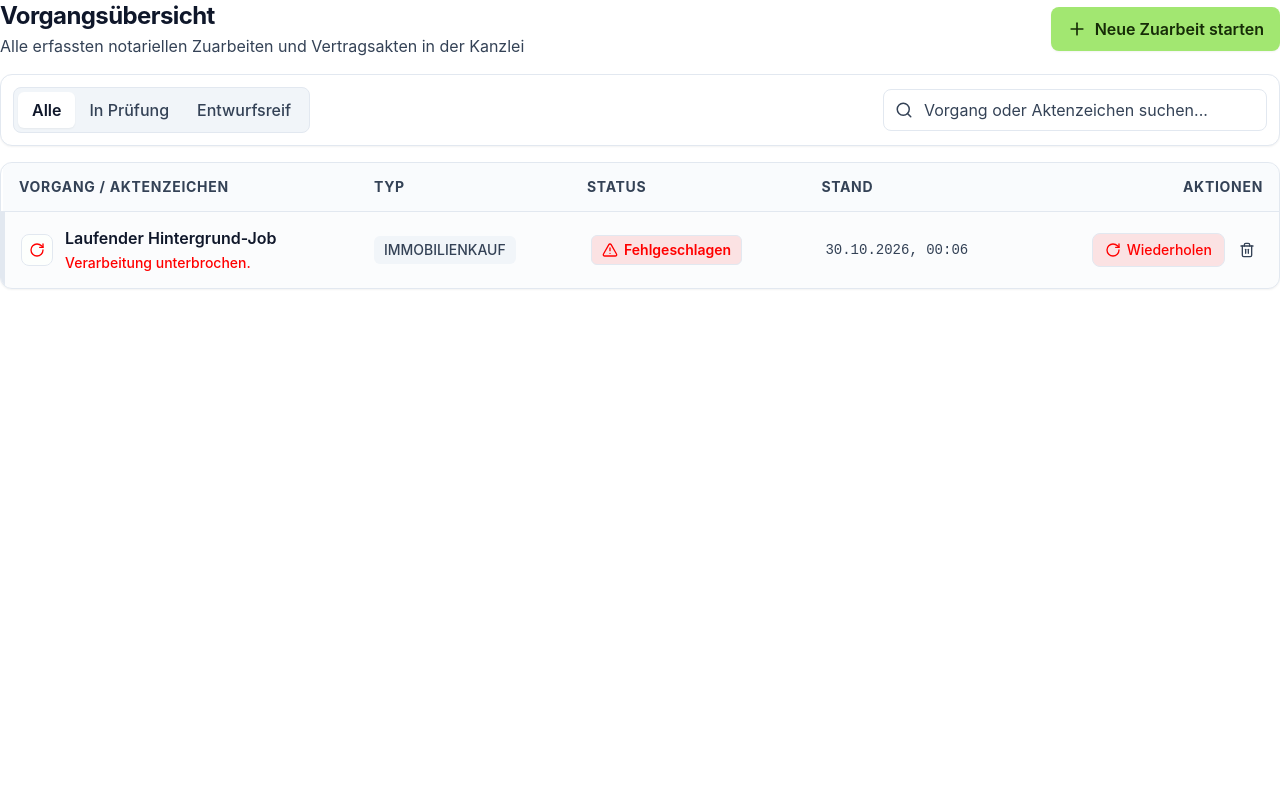
Scenario: DocumentTable Component › Verwerfen eines fehlgeschlagenen Vorgangs › bleibt bei Fehler offen, zeigt eine Meldung und erlaubt einen neuen Versuch
This screenshot has width=1280, height=800.
Click the button named "Fehlgeschlagenen Vorgang verwerfen". click: (1247, 250)
box: [1231,234,1263,266]
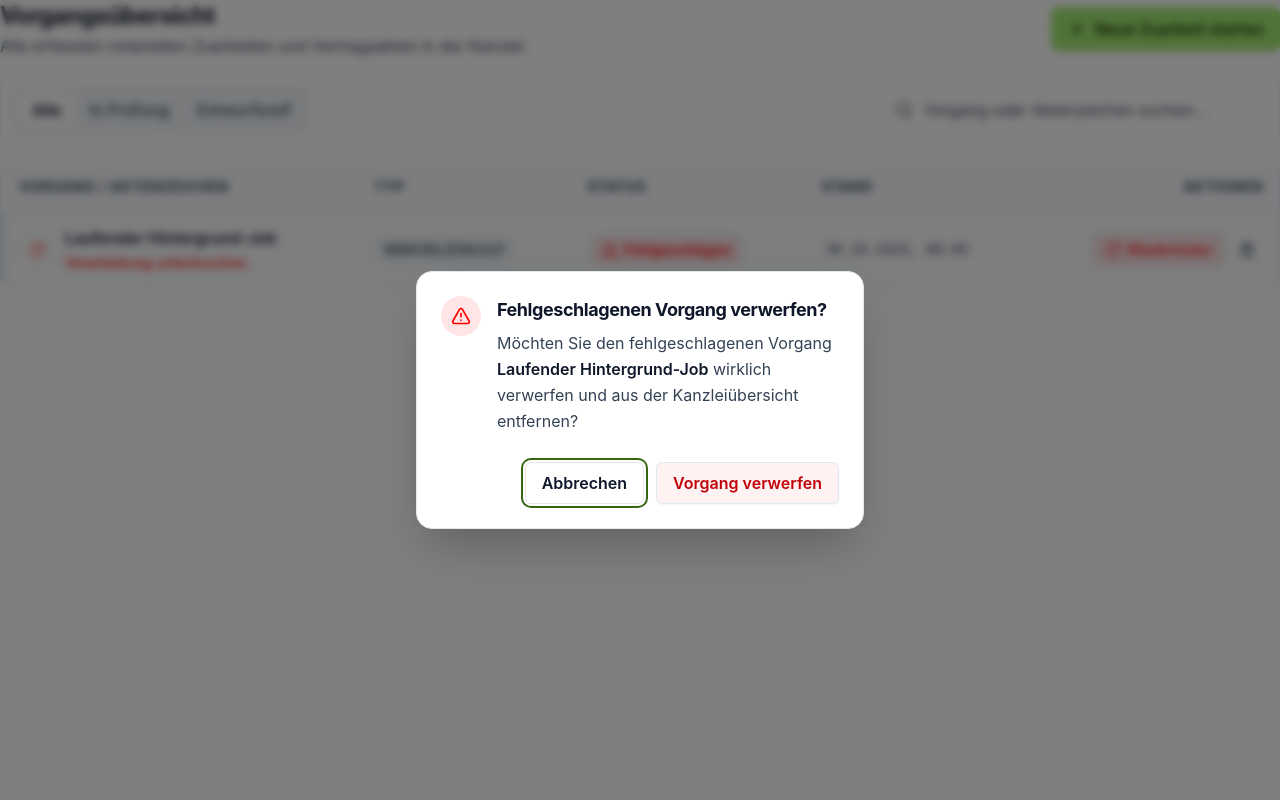
Click the button "Vorgang verwerfen". click: (748, 483)
box: [656,462,839,504]
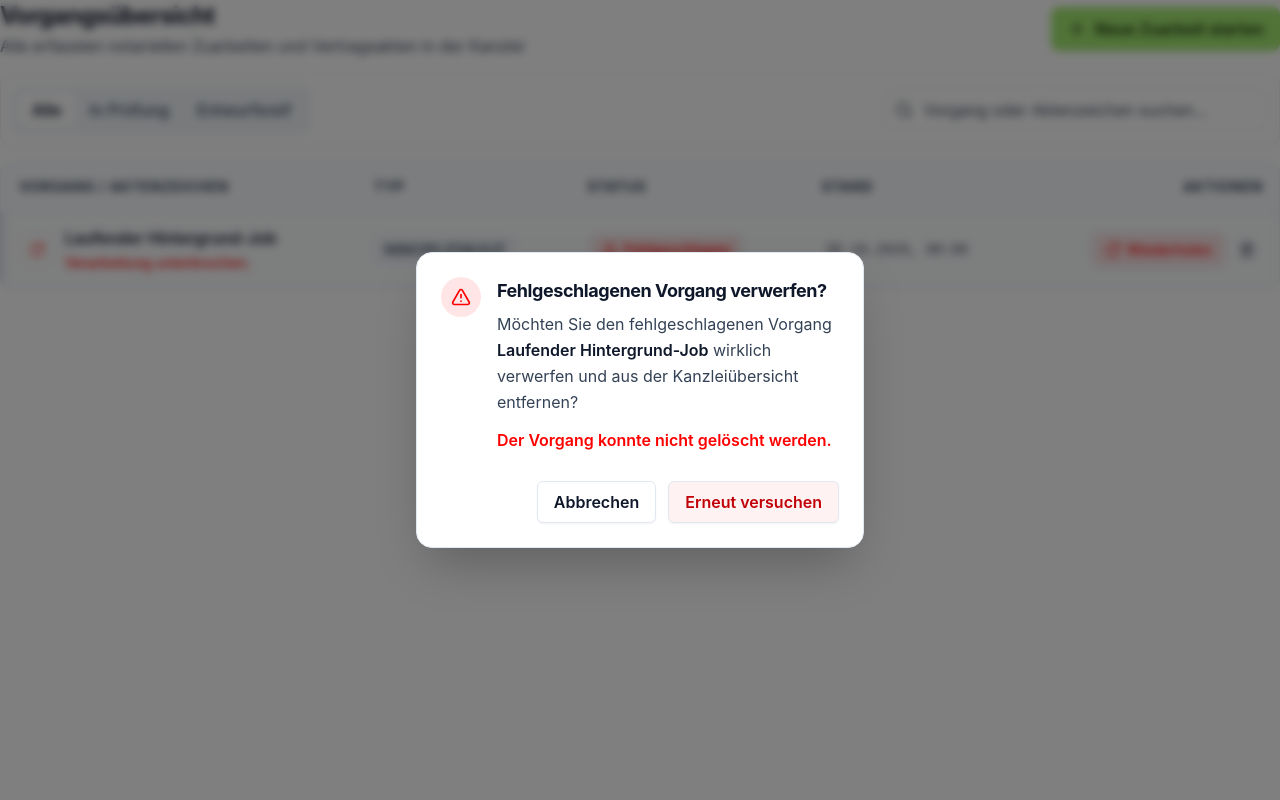
Check: the heading "Fehlgeschlagenen Vorgang verwerfen?" is shown, box [497,277,839,305]
Check: the message reads "Der Vorgang konnte nicht gelöscht werden.", box [497,430,832,450]
Click the button "Erneut versuchen". click: (754, 502)
box: [668,481,839,523]
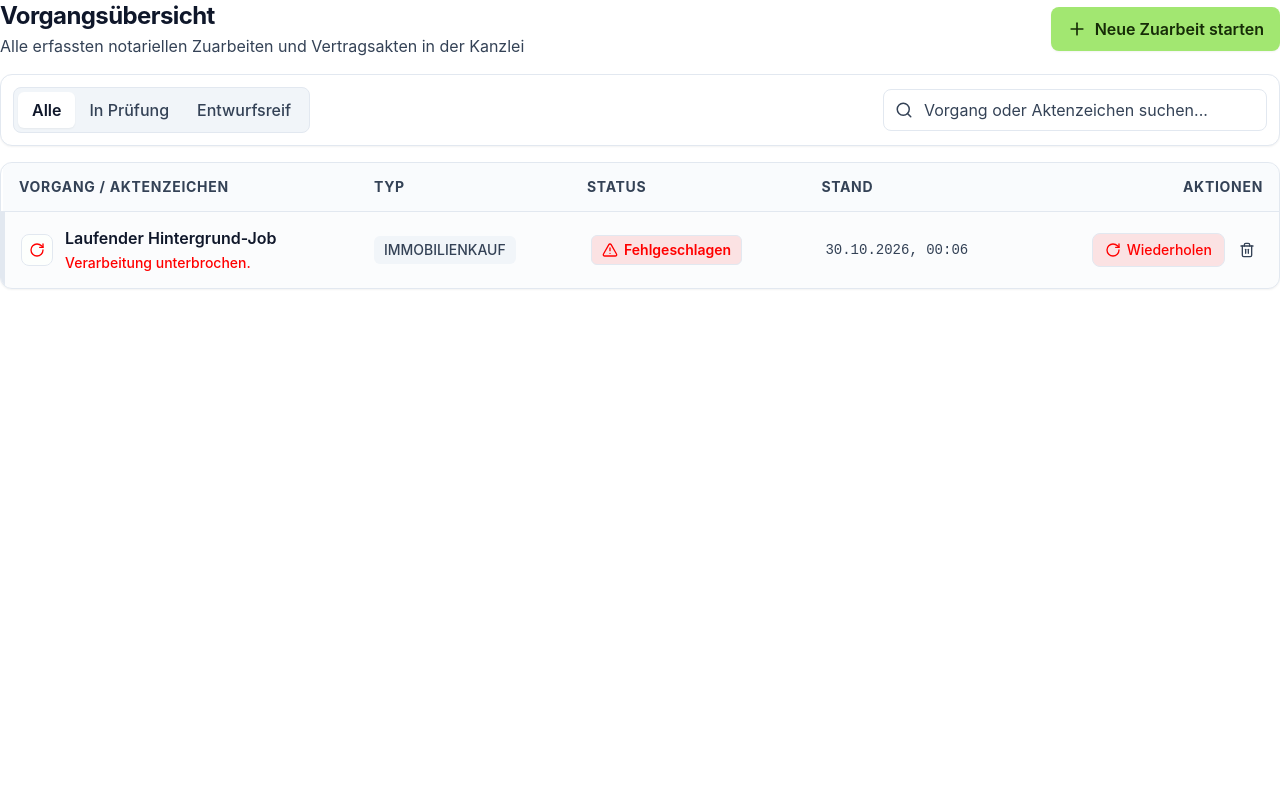
Check: the heading "Fehlgeschlagenen Vorgang verwerfen?" is gone
